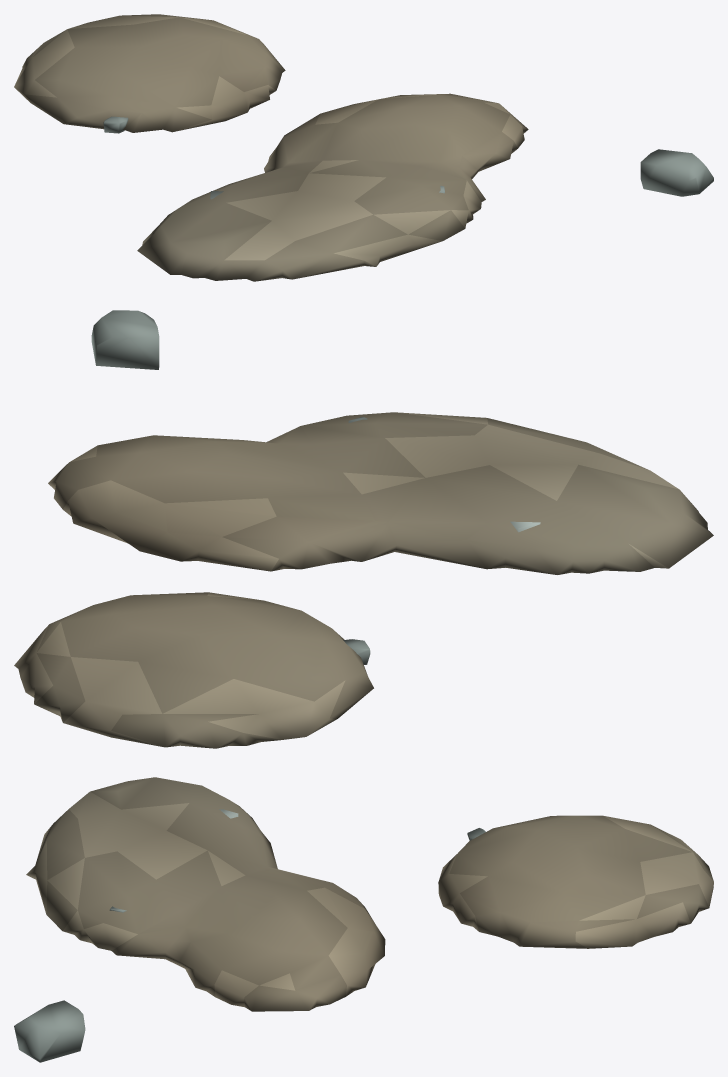
The model's file is grotto_gc_silt_b.glb.
The picture shows the model from 3 angles, top to bottom: view 1: azimuth 30°, elevation 25°; view 2: azimuth 150°, elevation 25°; view 3: azimuth 270°, elevation 25°; orthographic projection. The views are drawn at different scales.
Visible parts, largest first — view 1: grotto_gc_silt_b; view 2: grotto_gc_silt_b; view 3: grotto_gc_silt_b.
Part boxes in pixels (left/top/right/bottom): grotto_gc_silt_b: left=14, top=14, right=713, bottom=281; grotto_gc_silt_b: left=14, top=310, right=713, bottom=748; grotto_gc_silt_b: left=14, top=777, right=713, bottom=1062.
Bounding box in the file's own units: 3.39 × 0.2302 × 3.68.
